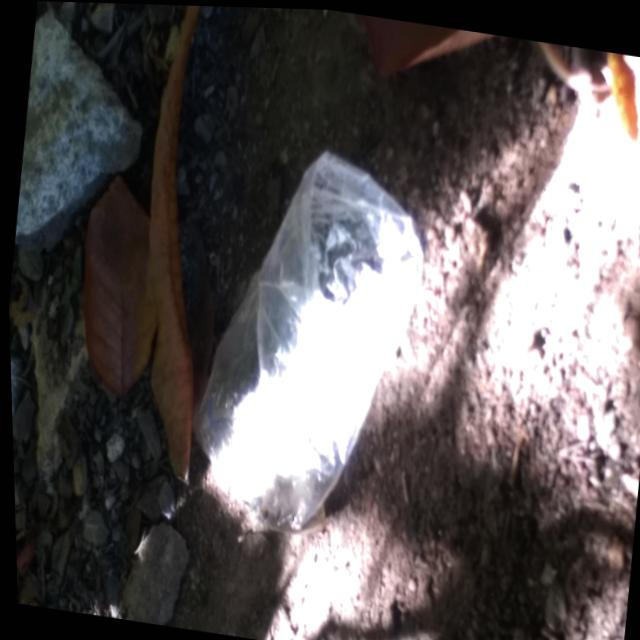Plastic: (158, 113, 452, 575)
